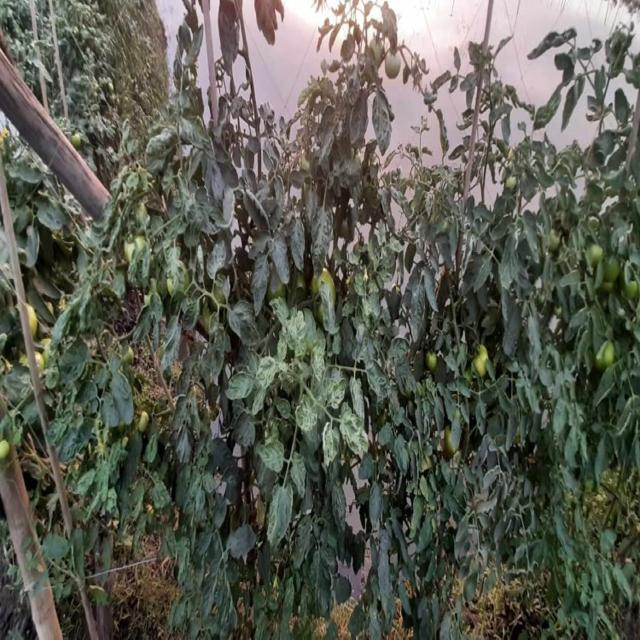tomato: (601, 258, 623, 291), (128, 233, 153, 258), (313, 265, 340, 288), (27, 300, 41, 340), (384, 50, 402, 81), (595, 346, 618, 369), (475, 346, 489, 377), (139, 408, 151, 438), (627, 276, 640, 301), (587, 242, 604, 261), (371, 33, 384, 55), (1, 435, 11, 463), (505, 175, 520, 193)
